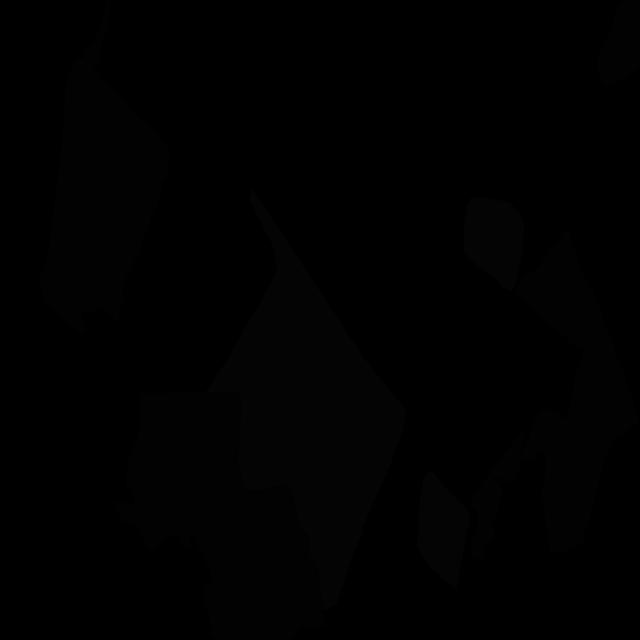cardboard: (470, 230, 640, 561), (114, 392, 326, 640), (40, 0, 170, 333), (597, 0, 640, 86)
soft_plastic: (205, 188, 407, 611), (417, 470, 470, 590), (464, 196, 524, 291)
